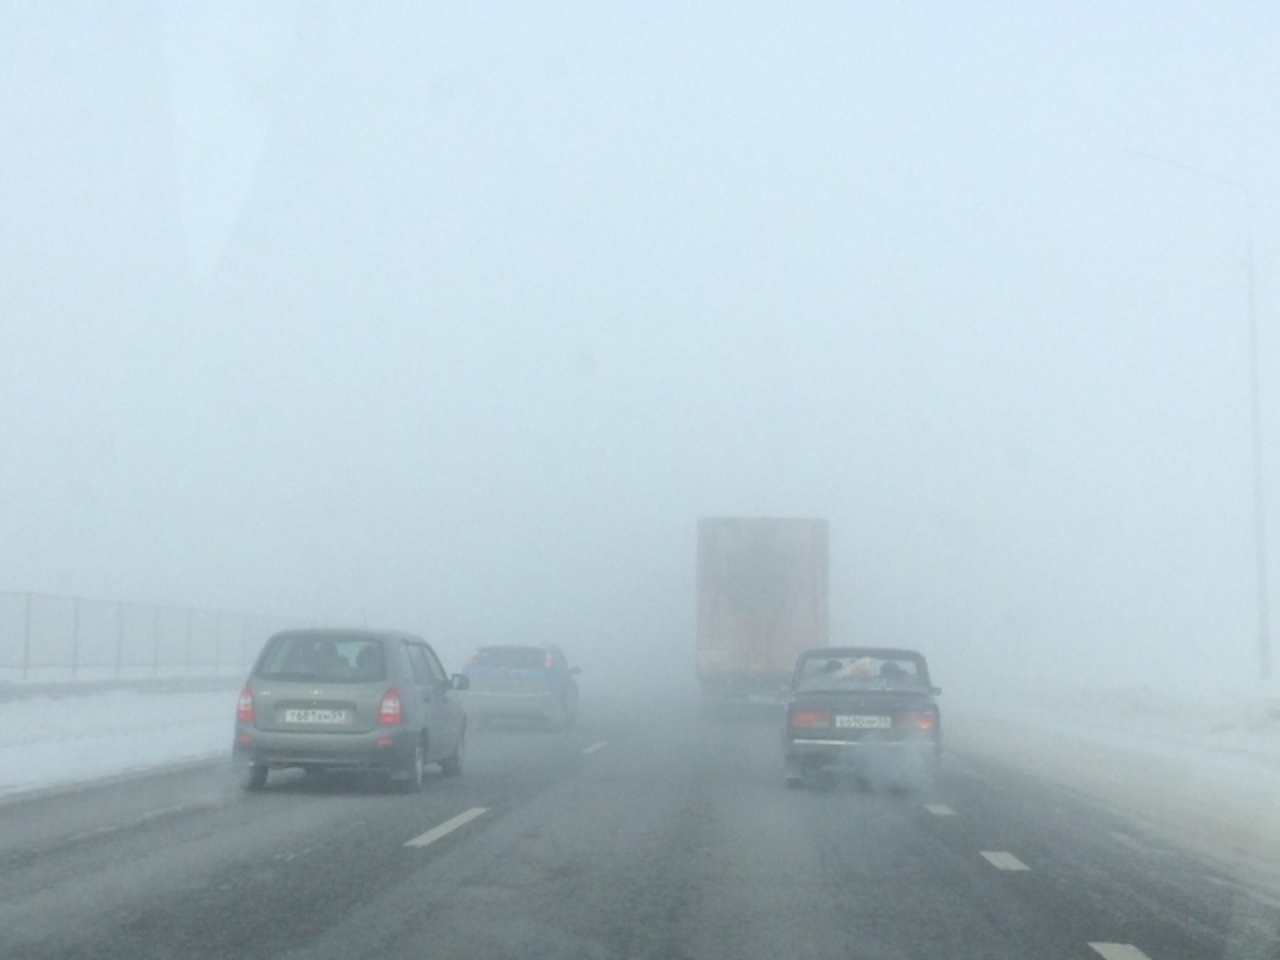car: (234, 628, 473, 796), (777, 646, 946, 794), (454, 639, 582, 734)
truck: (689, 514, 830, 716)
